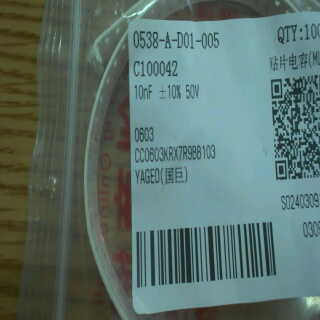10nF: (132, 82, 156, 101)
